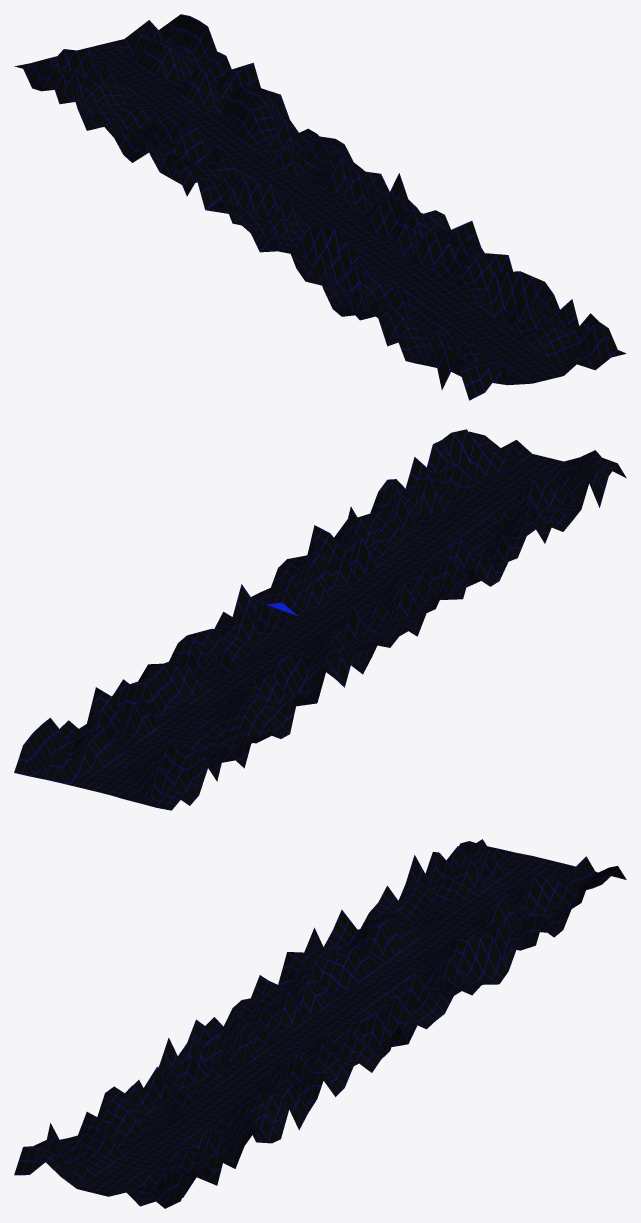
Rendered from terrain.obj.
3 views of the same model, one above another, from view 1: azimuth 30°, elevation 25°; view 2: azimuth 150°, elevation 25°; view 3: azimuth 330°, elevation 25° (orthographic).
Visible parts, largest first — view 1: Plane001.002; view 2: Plane001.002; view 3: Plane001.002.
Part boxes in pixels (x1=…): Plane001.002: x1=14, y1=14, x2=626, y2=400; Plane001.002: x1=14, y1=429, x2=626, y2=810; Plane001.002: x1=14, y1=839, x2=626, y2=1208.
Bounding box in the file's own units: 120 × 33.51 × 600.
1 material, 1 textured.
